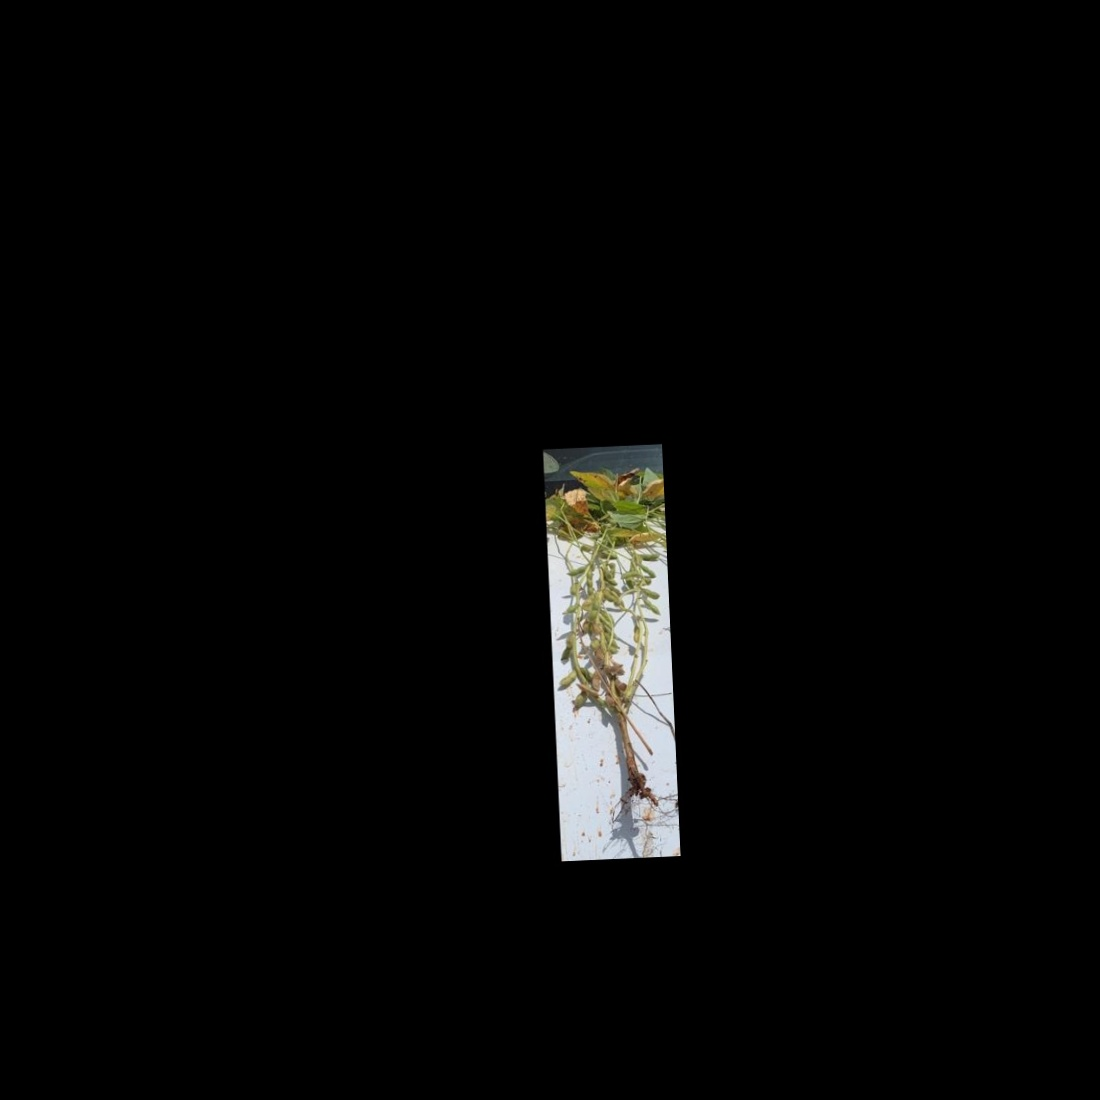pod: (556, 667, 578, 689), (641, 596, 663, 618), (565, 562, 589, 577), (638, 562, 656, 578), (635, 550, 661, 561), (642, 586, 661, 599), (630, 624, 640, 644)
soy: (545, 479, 675, 824)
